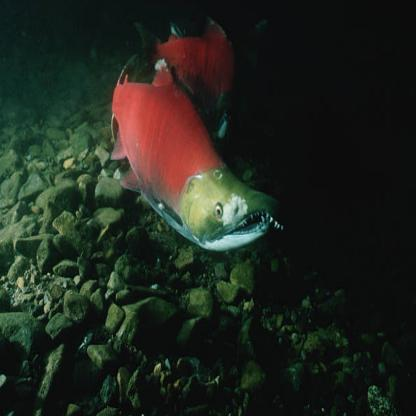sockeye: (115, 15, 284, 250)
